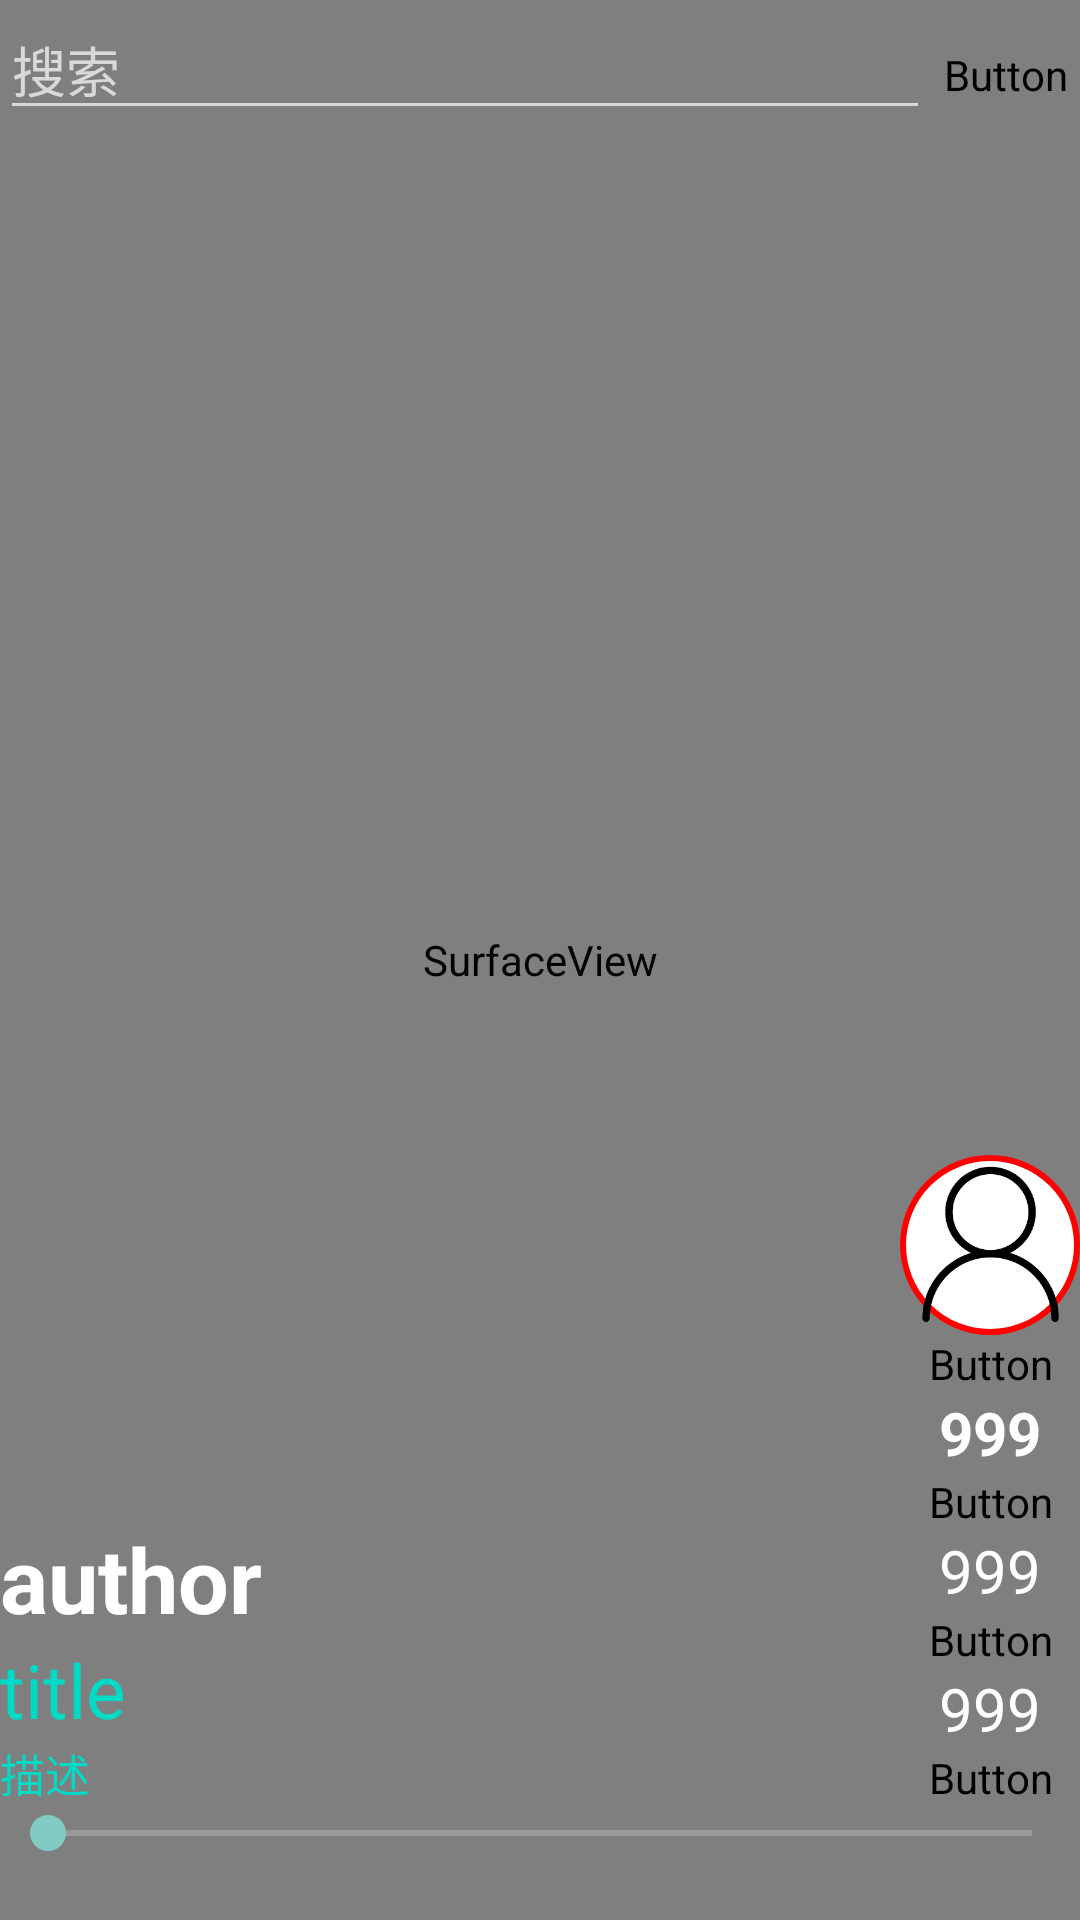

Where icons sit on this 1080px x 1920px app screen, as (x1, y1, x2, y2):
wode: (900, 1155, 1080, 1335)
